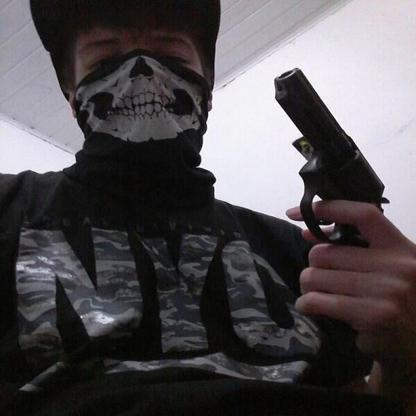Pistol: (207, 65, 414, 262)
